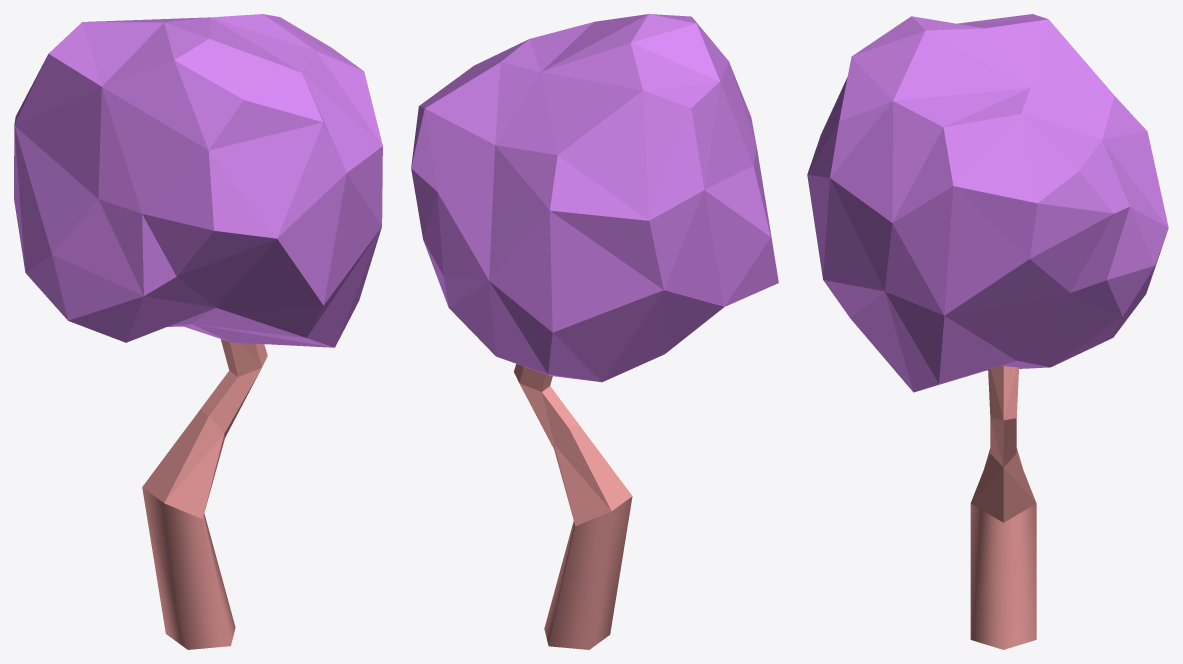
The model's file is treeEpic.dae.
3 renders of one model, left to right at view 1: azimuth 30°, elevation 25°; view 2: azimuth 150°, elevation 25°; view 3: azimuth 270°, elevation 25°, orthographic. The views are drawn at different scales.
Parts seen in each view (by area): view 1: Hedra001, Cylinder002; view 2: Hedra001, Cylinder002; view 3: Hedra001, Cylinder002.
Boxes of the visible parts, x1,y1,x2,y2 form: Hedra001: [14, 14, 382, 347]; Cylinder002: [142, 339, 267, 649]; Hedra001: [411, 14, 778, 382]; Cylinder002: [514, 364, 632, 649]; Hedra001: [807, 14, 1168, 392]; Cylinder002: [970, 366, 1036, 649].
Size of the model in its own units: 2.38 by 2.44 by 4.39.
